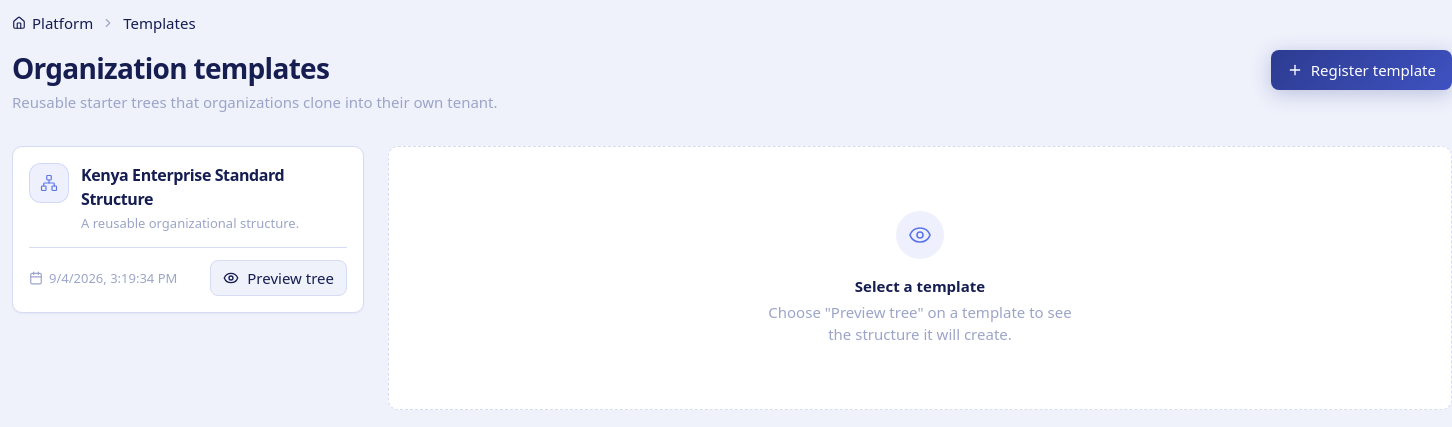
Scenario: PlatformTemplates › shows a nested preview inline on the page instead of in a dialog
Expected: the heading "Kenya Enterprise Standard Structure" is shown, [81,164,284,210]
Click the button "Preview tree": (279, 278) [210,260,347,296]
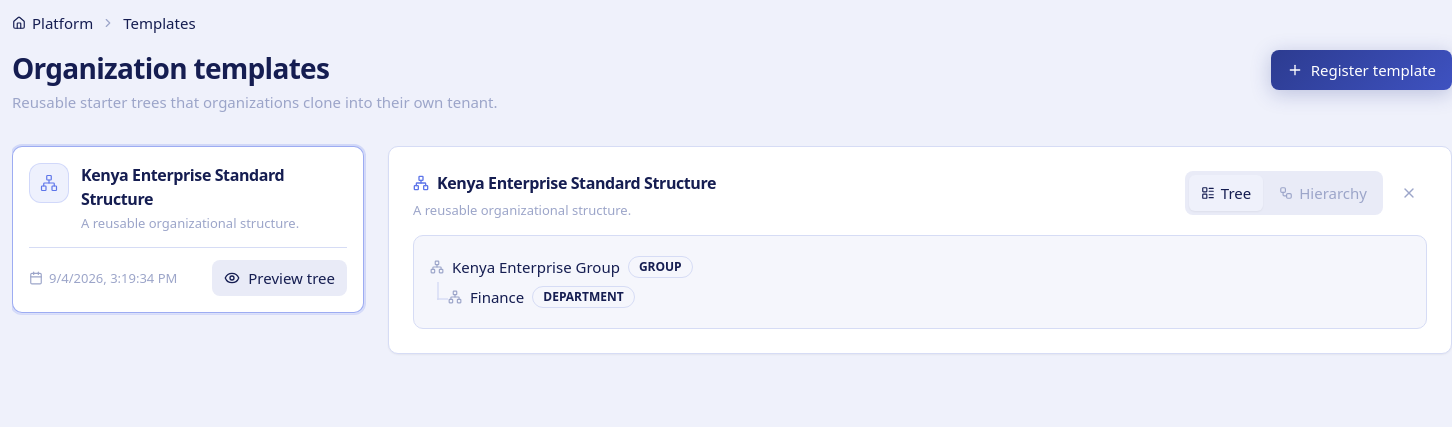
Expected: the text "Kenya Enterprise Group" is shown, [452,256,620,278]
Expected: the text "Finance" is shown, [470,286,524,308]
